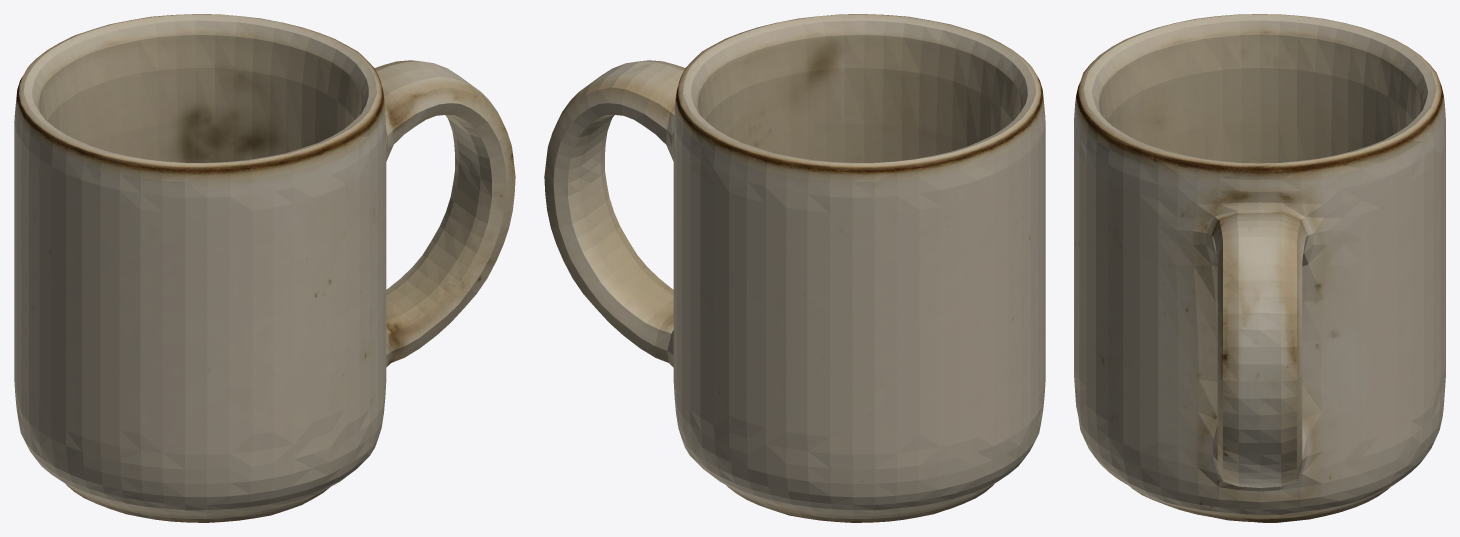
3 renders of one model, left to right at view 1: azimuth 30°, elevation 25°; view 2: azimuth 150°, elevation 25°; view 3: azimuth 270°, elevation 25°, orthographic.
Visible parts, largest first — view 1: tripo_mesh_1adf17e4-5840-4102-bdd9-8f6df4af2b90; view 2: tripo_mesh_1adf17e4-5840-4102-bdd9-8f6df4af2b90; view 3: tripo_mesh_1adf17e4-5840-4102-bdd9-8f6df4af2b90.
Part boxes in pixels (x1,y1,x2,y2): tripo_mesh_1adf17e4-5840-4102-bdd9-8f6df4af2b90: (14,14,515,522); tripo_mesh_1adf17e4-5840-4102-bdd9-8f6df4af2b90: (544,14,1045,522); tripo_mesh_1adf17e4-5840-4102-bdd9-8f6df4af2b90: (1074,14,1445,522).
Bounding box in the file's own units: 0.07 × 0.0544 × 0.0489.
Materials: 1 (1 with a texture image).
